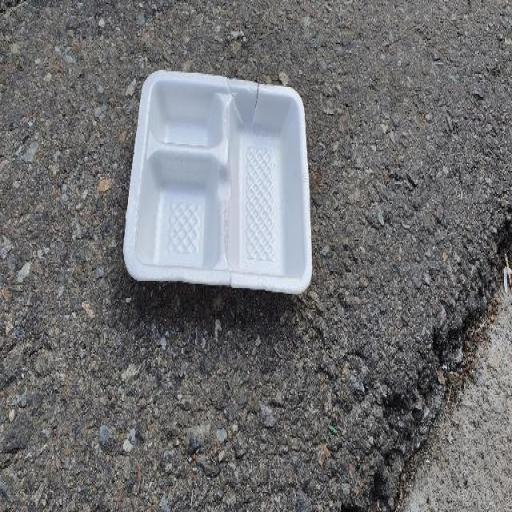styrofoam: (124, 73, 311, 292)
